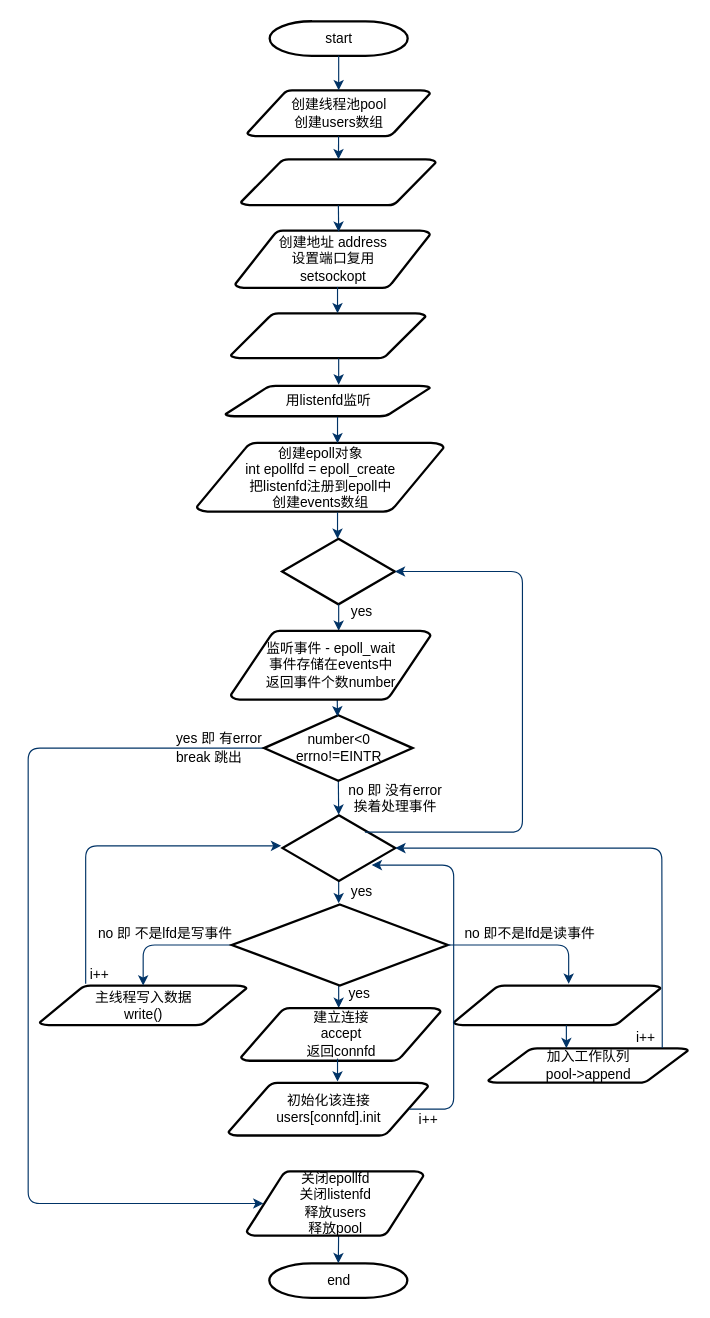
This 710x1318 diagram has some shape labels left out. Each missing label, with the box of its shape:
i<number?: (281, 814, 396, 881)
true?: (280, 537, 395, 605)
主线程从sockfd读数据 read(): (452, 984, 661, 1026)
创建用于监听的socket int listenfd = socket: (239, 158, 436, 206)
取sockfd sockfd==listenfd?: (230, 903, 448, 986)
绑定socket和地址 bind: (229, 312, 426, 359)
